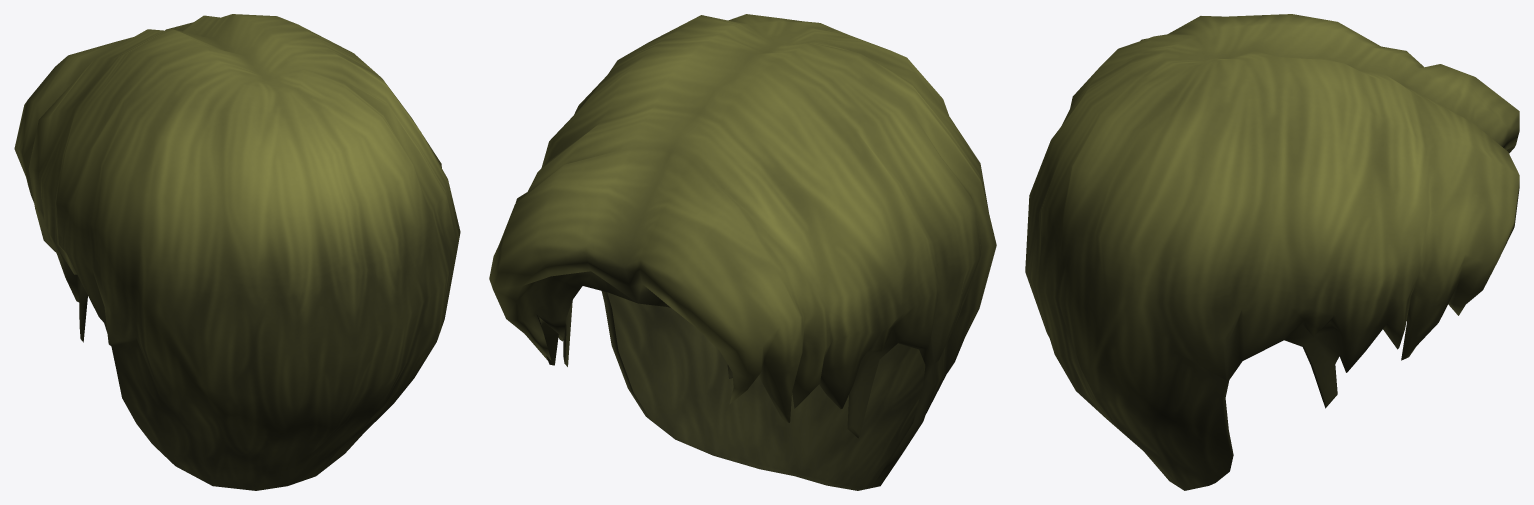
File: Hair_Male_006_textured_yellow.glb
3 renders of one model, left to right at view 1: azimuth 30°, elevation 25°; view 2: azimuth 150°, elevation 25°; view 3: azimuth 270°, elevation 25°, orthographic. The views are drawn at different scales.
Parts seen in each view (by area): view 1: Hair_Male_006; view 2: Hair_Male_006; view 3: Hair_Male_006.
Boxes of the visible parts, x1,y1,x2,y2 form: Hair_Male_006: [14, 14, 460, 490]; Hair_Male_006: [489, 14, 996, 490]; Hair_Male_006: [1025, 14, 1519, 490].
Size of the model in its own units: 0.195 by 0.2308 by 0.2425.
1 material, 1 textured.
